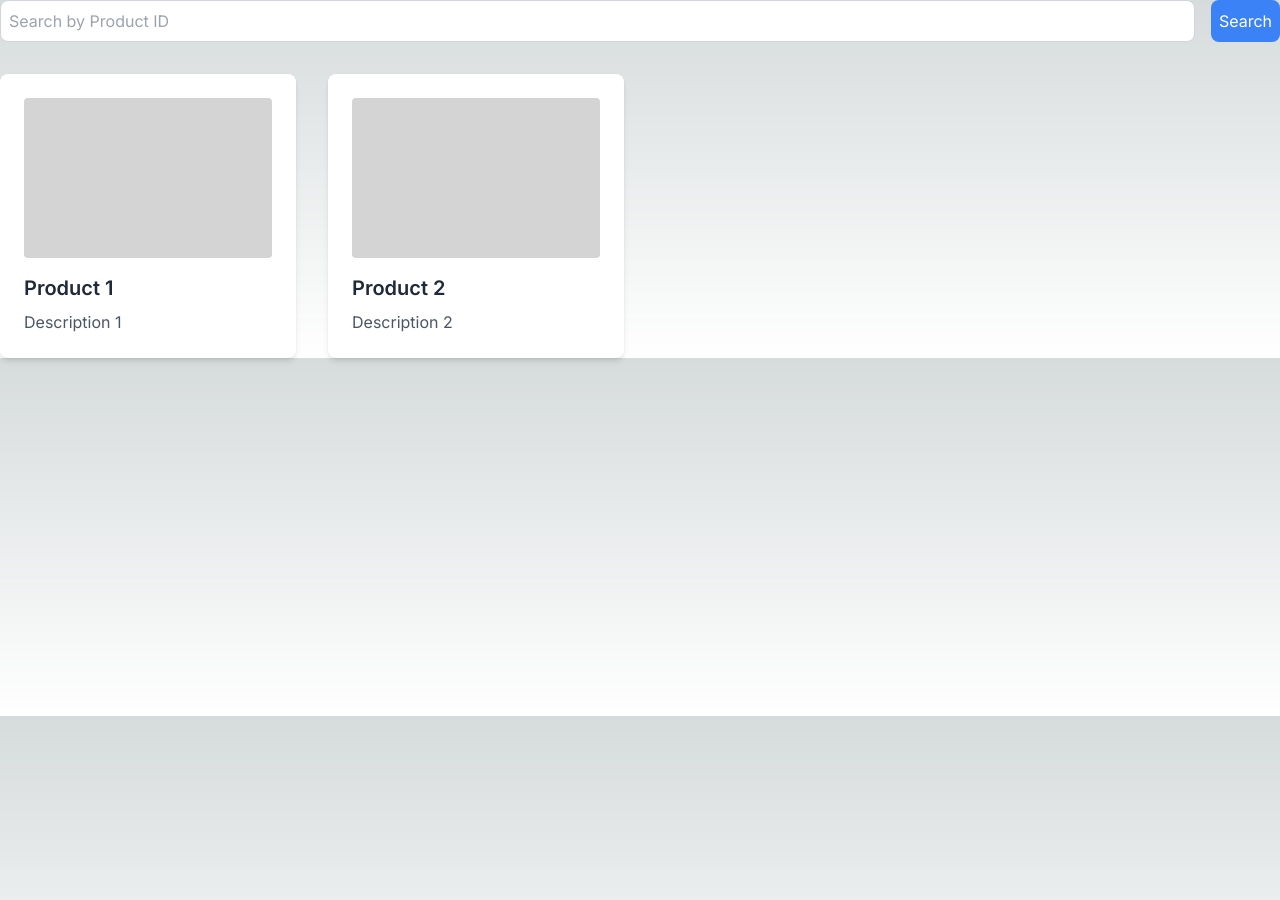
Test: SearchComponent › shows no products when search results are empty
The image size is (1280, 900).
Type "id-not-found" into the field with placeholder "Search by Product ID" at (597, 21), box [0,0,1195,42]
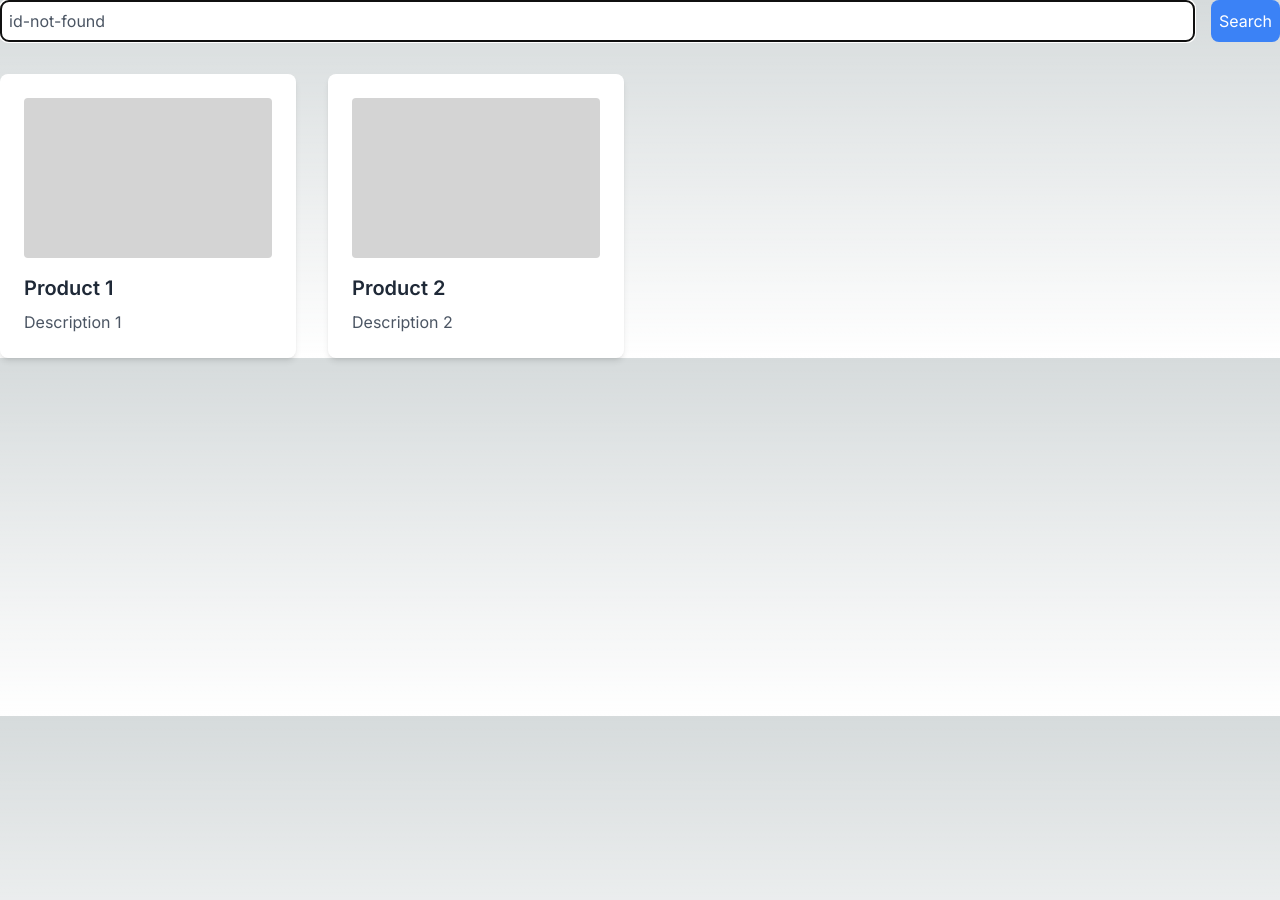
Click the button "Search" at (1245, 21), box [1211,0,1279,42]
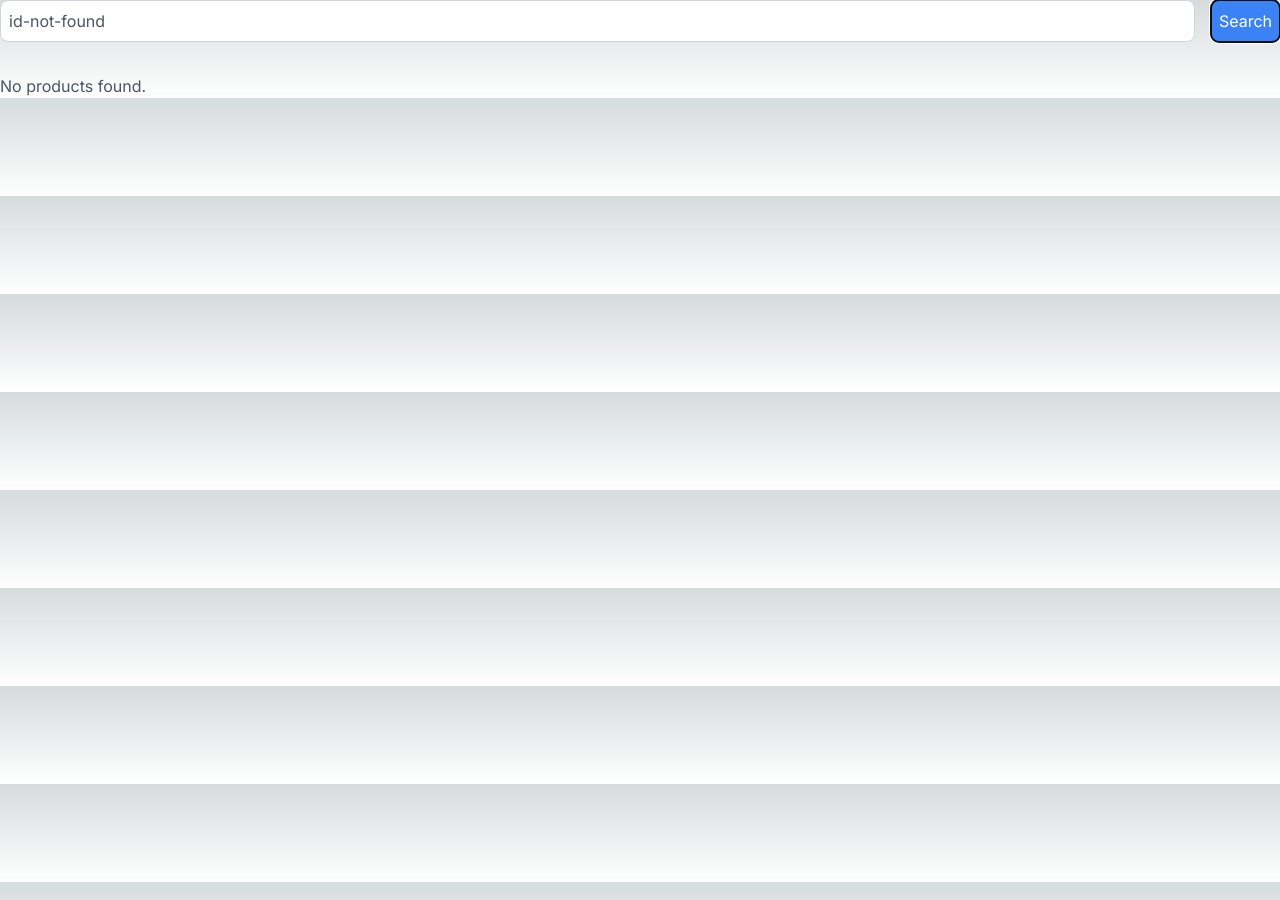
Expected: no headings are shown
